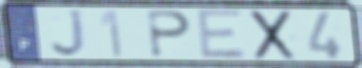1: (99, 8, 124, 59)
4: (306, 9, 345, 62)
E: (194, 7, 249, 62)
J: (49, 8, 89, 59)
P: (146, 9, 194, 60)
X: (249, 9, 298, 62)
